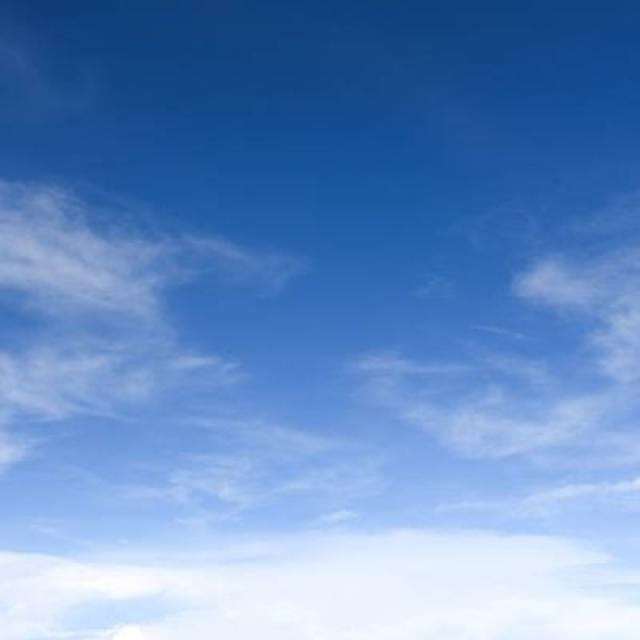Ci: (9, 89, 640, 640)
